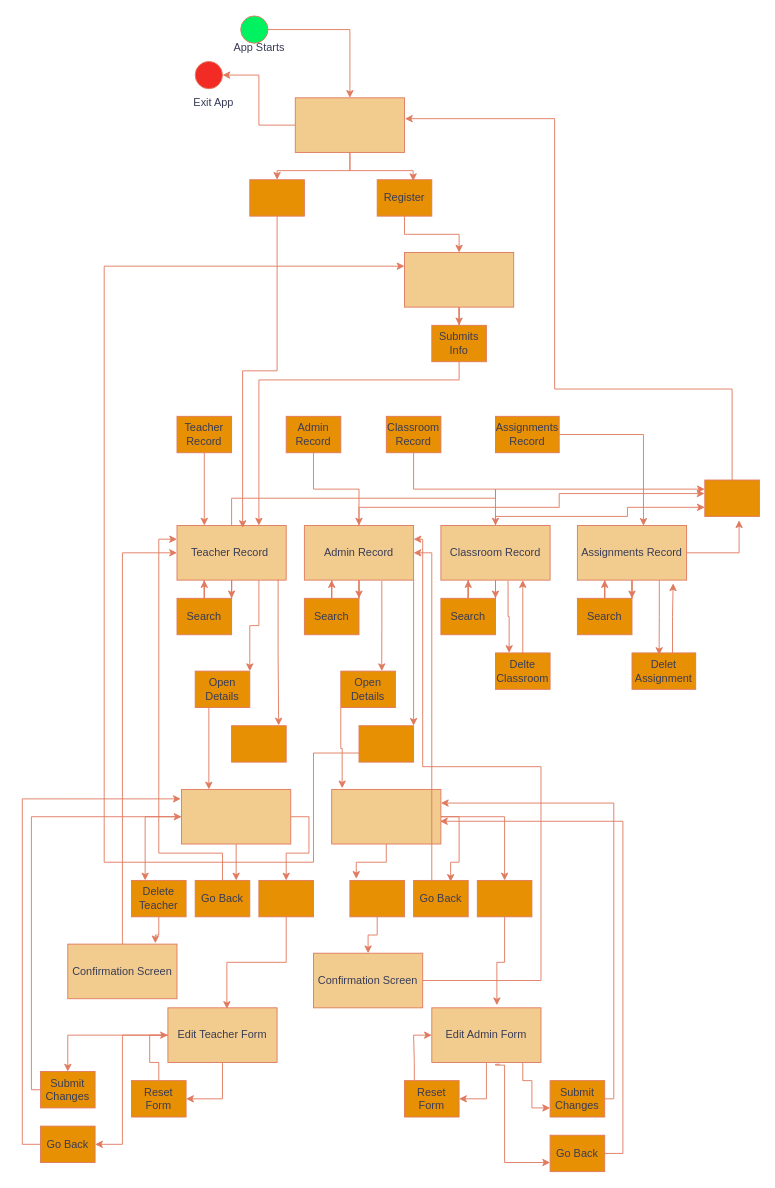
This 775x1188 diagram has some shape labels left out. The centre of each missing label's shape, as x and y in pixels:
Add New Admin: the point at 386,743
Add New Teacher: the point at 258,743
Admin Info: the point at 386,816
Delete Admin: the point at 376,898
Edit Admin: the point at 504,898
Edit Teacher: the point at 285,898
Log out: the point at 731,497
Login: the point at 276,197
Login (Landing Screen): the point at 349,124
Register form: the point at 459,279
Teacher Info: the point at 236,816
